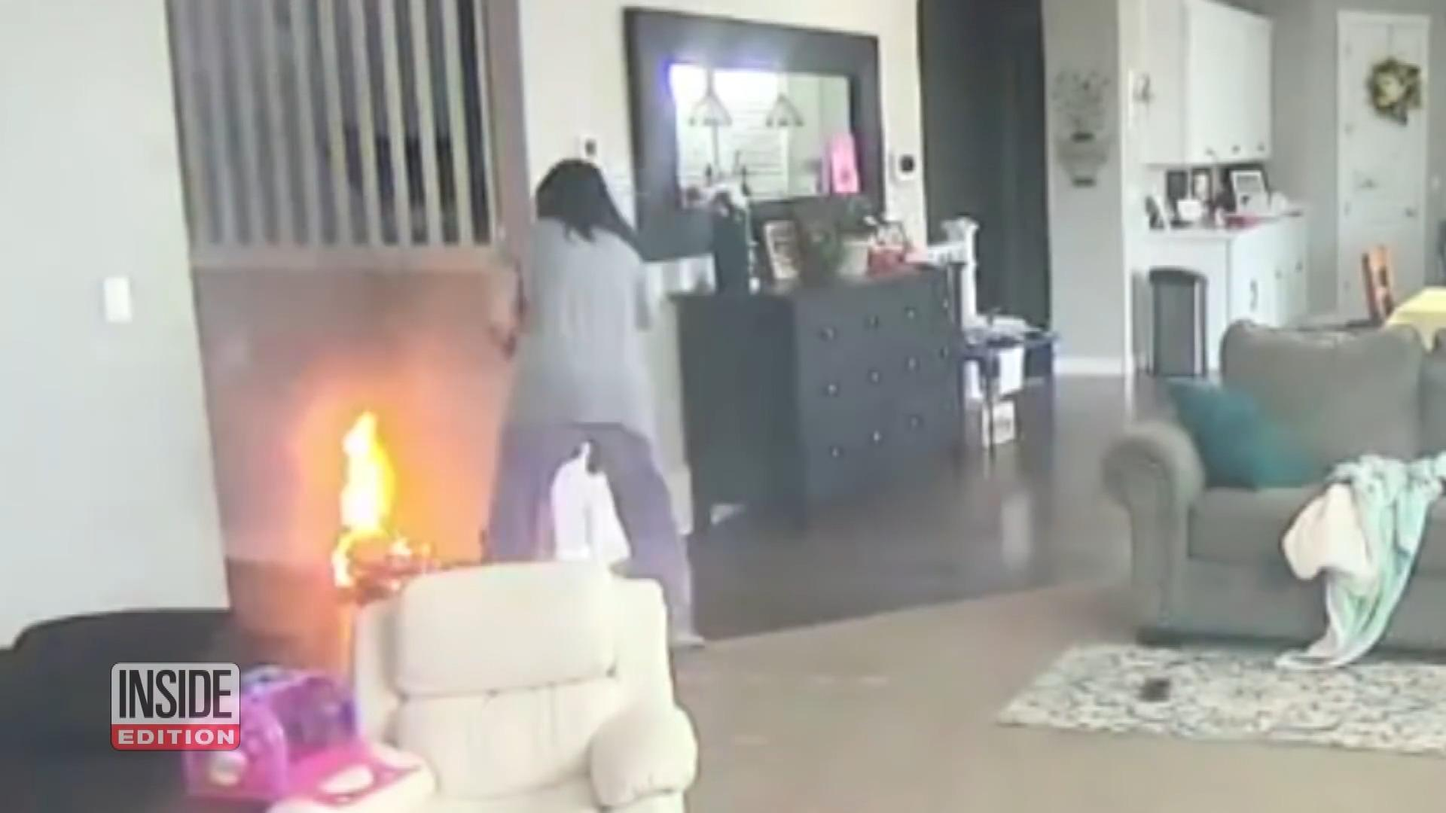fire: (332, 409, 410, 591)
